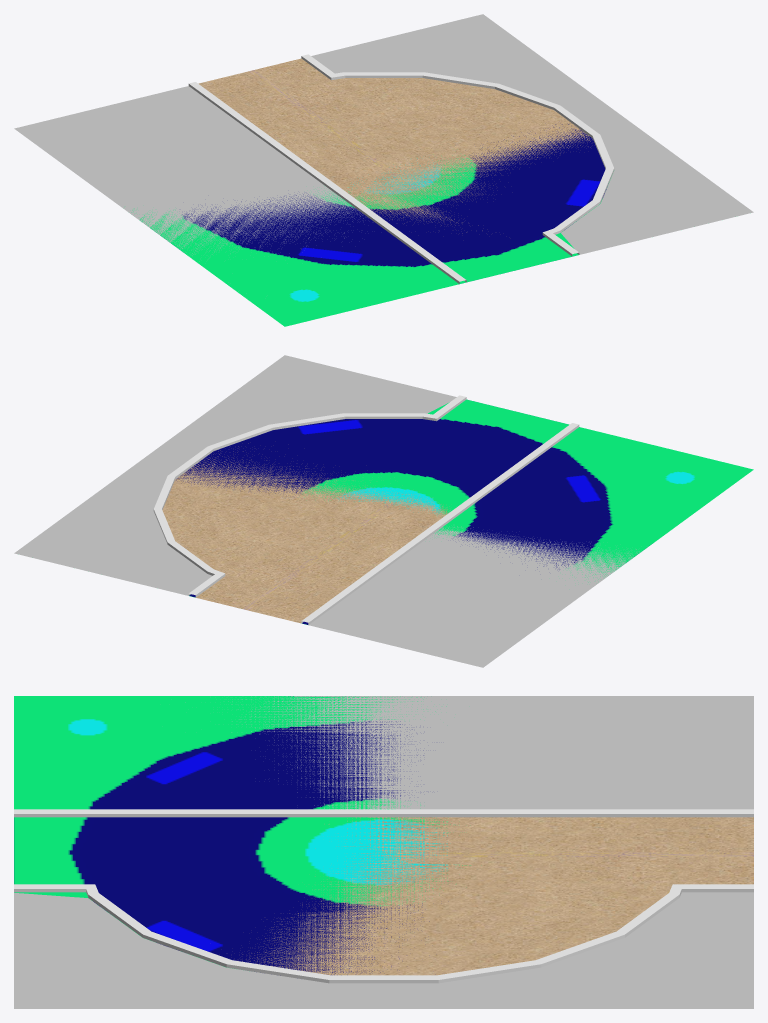
Rendered from Park_Straight_02.fbx.
The picture shows the model from 3 angles, top to bottom: view 1: azimuth 30°, elevation 25°; view 2: azimuth 150°, elevation 25°; view 3: azimuth 270°, elevation 25°; orthographic projection. The views are drawn at different scales.
Parts seen in each view (by area): view 1: _T_Park_StarightBG_02, HeightMap; view 2: _T_Park_StarightBG_02, HeightMap; view 3: _T_Park_StarightBG_02, HeightMap.
Boxes of the visible parts, x1,y1,x2,y2 form: _T_Park_StarightBG_02: (14, 14, 753, 291); HeightMap: (131, 124, 609, 326); _T_Park_StarightBG_02: (14, 355, 639, 667); HeightMap: (176, 399, 753, 624); _T_Park_StarightBG_02: (14, 696, 753, 1008); HeightMap: (14, 696, 470, 974).
Size of the model in its own units: 2000 by 10 by 2000.
